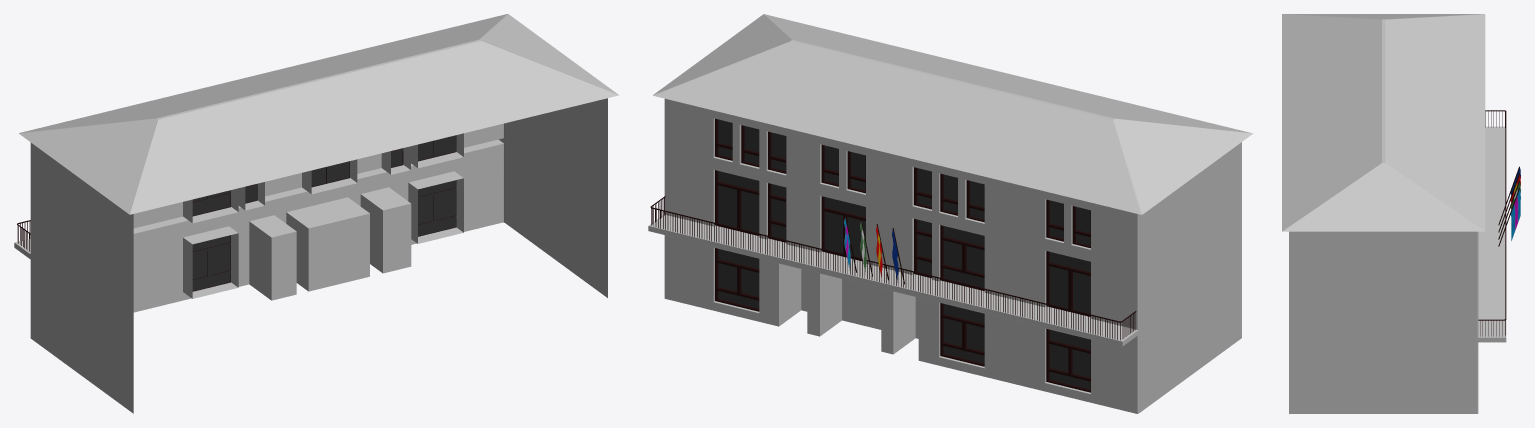
Rendered from ayuntamient.fbx.
3 renders of one model, left to right at view 1: azimuth 30°, elevation 25°; view 2: azimuth 150°, elevation 25°; view 3: azimuth 270°, elevation 25°, orthographic. The views are drawn at different scales.
Parts seen in each view (by area): view 1: Ayuntamiento; view 2: Ayuntamiento; view 3: Ayuntamiento.
Boxes of the visible parts, x1,y1,x2,y2 form: Ayuntamiento: (14, 14, 618, 413); Ayuntamiento: (648, 14, 1253, 413); Ayuntamiento: (1282, 14, 1520, 413).
Size of the model in its own units: 2828 by 1316 by 1311.
